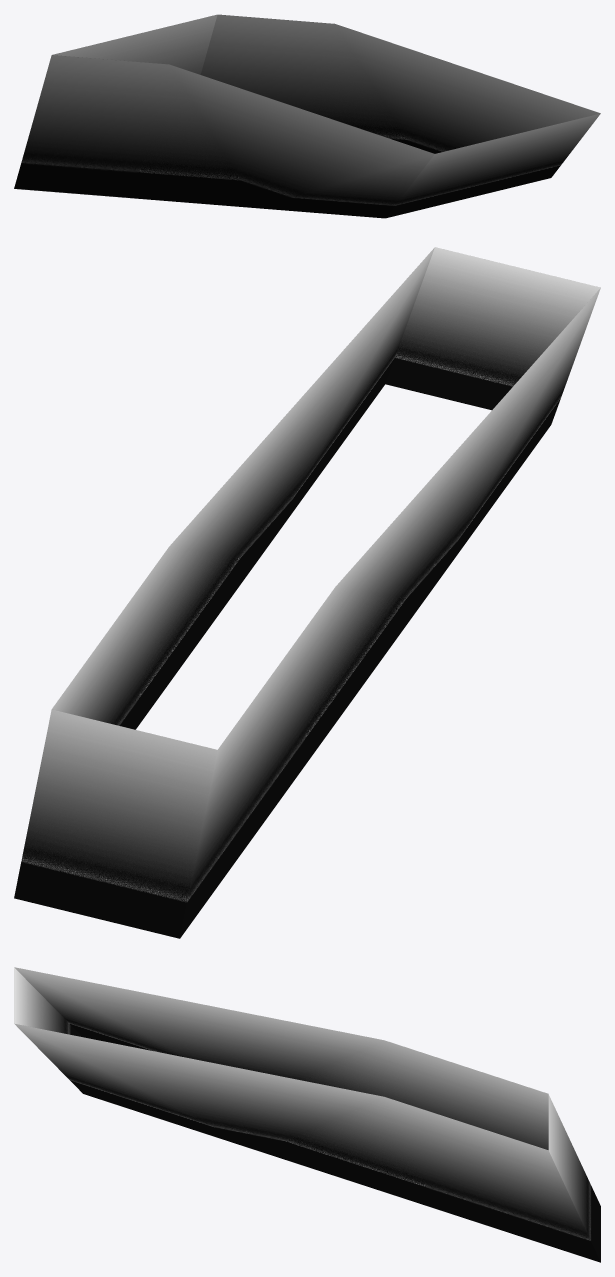
Rendered from gWinLongRight.fbx.
The picture shows the model from 3 angles, top to bottom: view 1: azimuth 30°, elevation 25°; view 2: azimuth 150°, elevation 25°; view 3: azimuth 270°, elevation 25°; orthographic projection. The views are drawn at different scales.
Visible parts, largest first — view 1: Arch__1__1.005; view 2: Arch__1__1.005; view 3: Arch__1__1.005.
Boxes of the visible parts, x1,y1,x2,y2 form: Arch__1__1.005: (14, 14, 600, 218); Arch__1__1.005: (14, 247, 600, 938); Arch__1__1.005: (14, 967, 600, 1262).
Bounding box in the file's own units: 368 × 728 × 1619.
